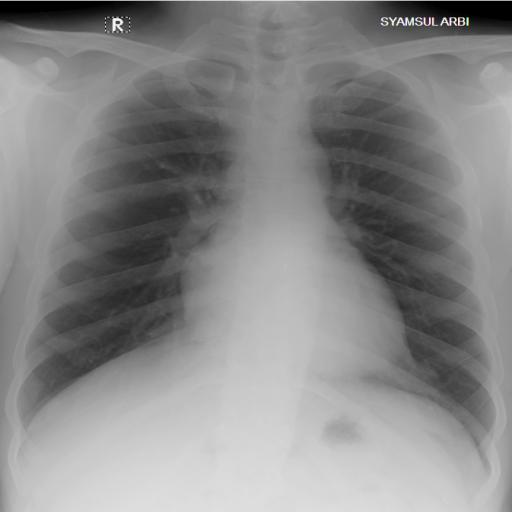kardiomegali: (14, 22, 502, 482)
